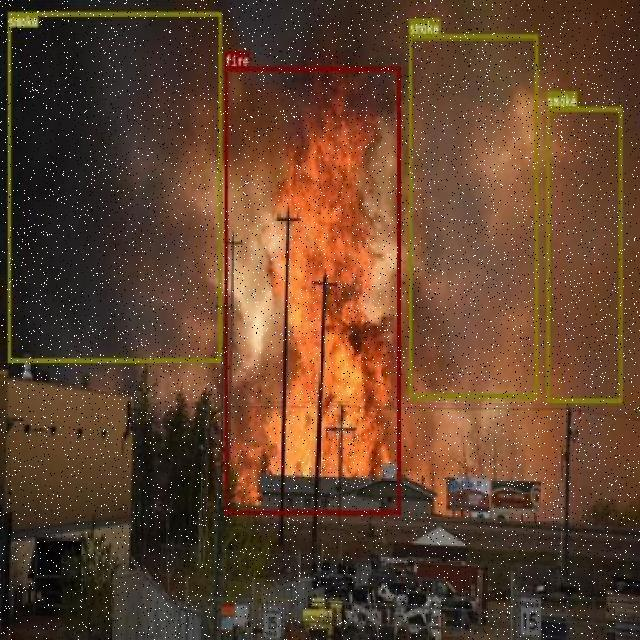Smoke: (7, 0, 221, 298), (440, 34, 505, 397), (545, 106, 621, 402)
